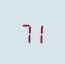one: (32, 20, 44, 44)
seven: (19, 19, 31, 43)
